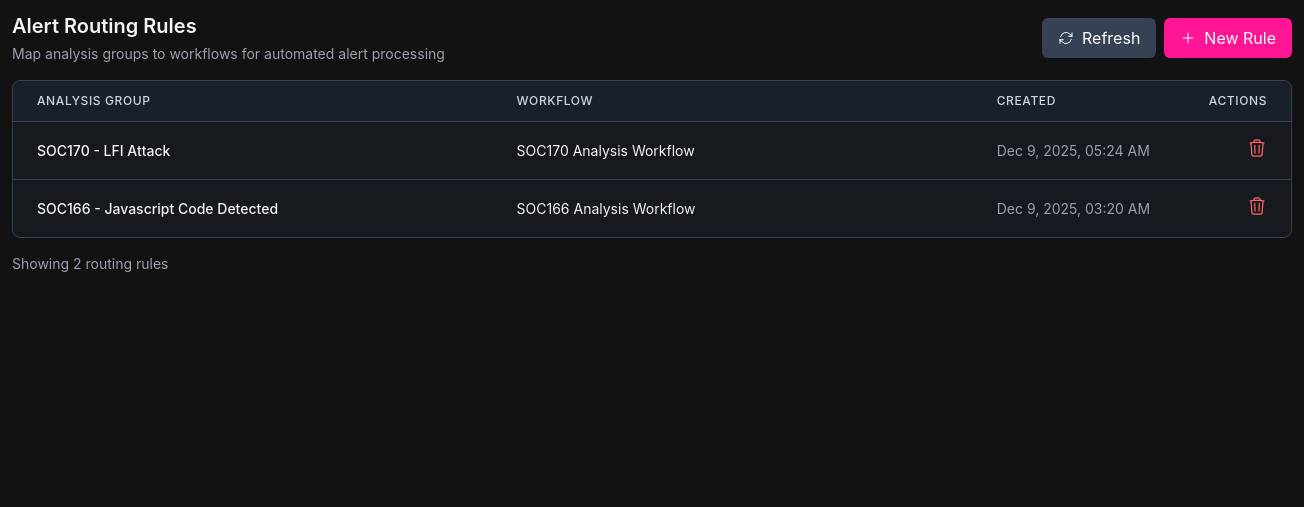
Test case: AlertRoutingRules › create button is disabled when selections are incomplete
Expected: the text "SOC170 - LFI Attack" is shown, [37, 142, 170, 158]
Note: Open create form
Click the button "New Rule" at (1228, 38), box [1164, 18, 1292, 58]
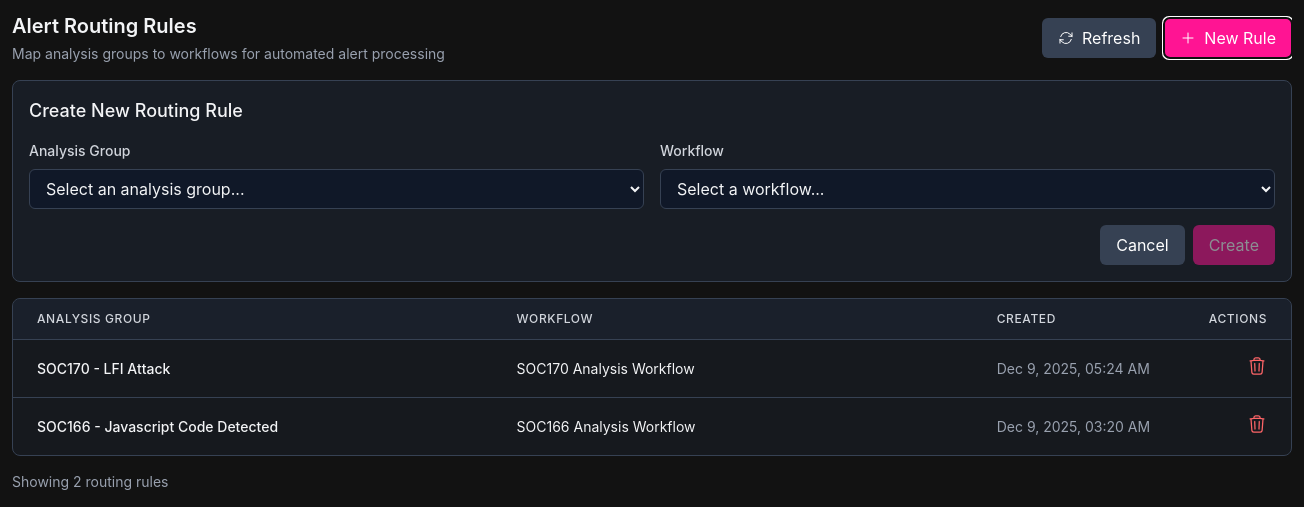
Now the button "Create" is disabled, box [1193, 225, 1275, 265]
Note: Select only analysis group
Select "SOC170 - LFI Attack" in the dropdown labelled "Analysis Group" at (336, 189), box [29, 169, 644, 209]
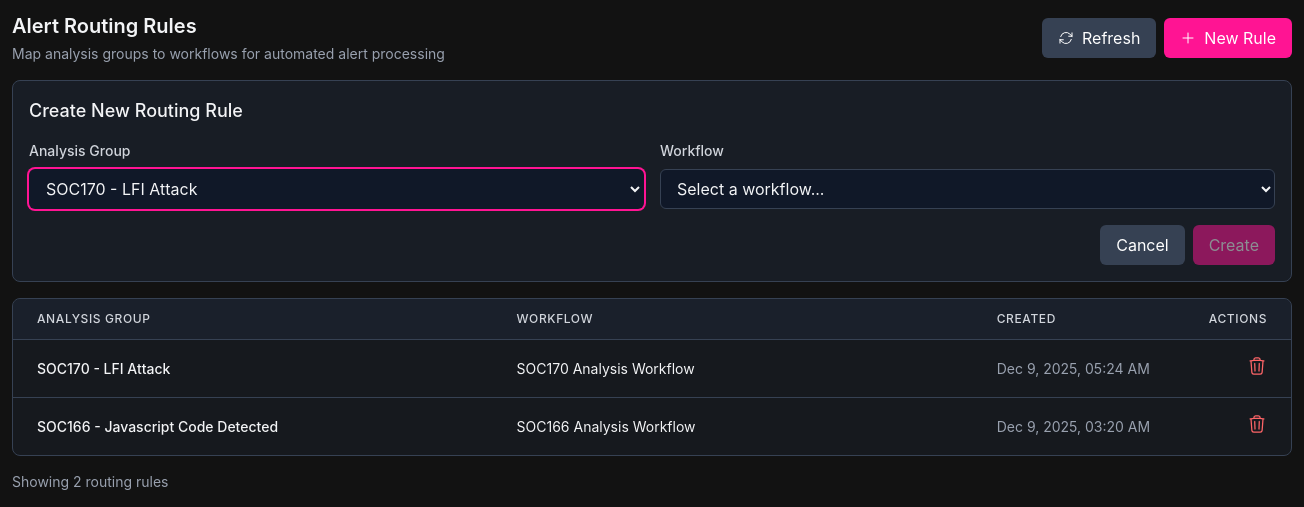
Now the button "Create" is disabled, box [1193, 225, 1275, 265]
Note: Select workflow
Select "SOC170 Analysis Workflow" in the dropdown labelled "Workflow" at (968, 189), box [660, 169, 1275, 209]
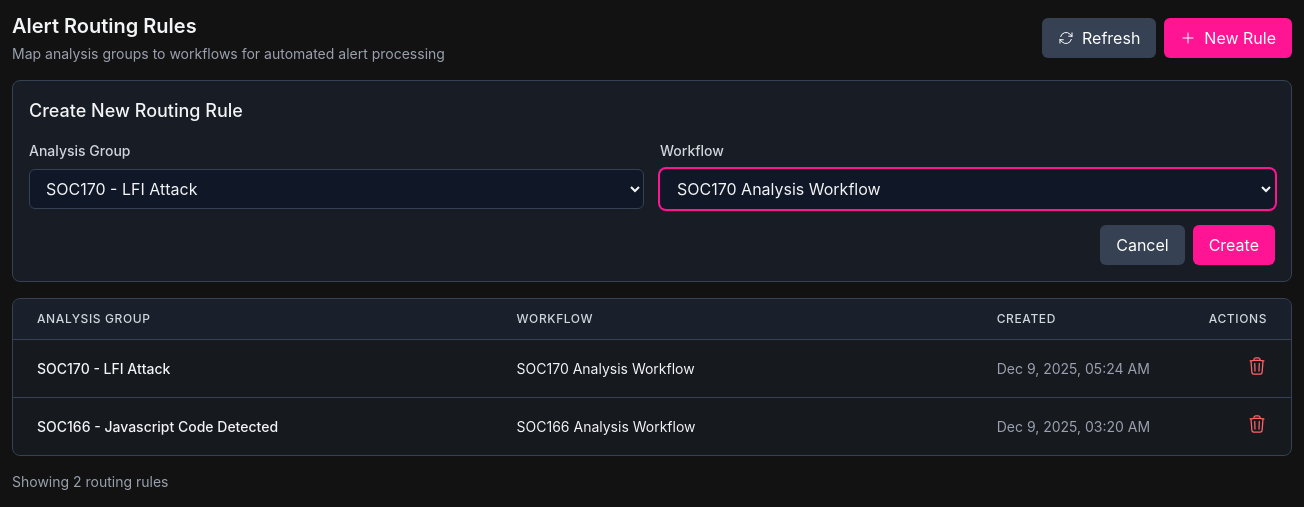
Now the button "Create" is enabled, box [1193, 225, 1275, 265]
